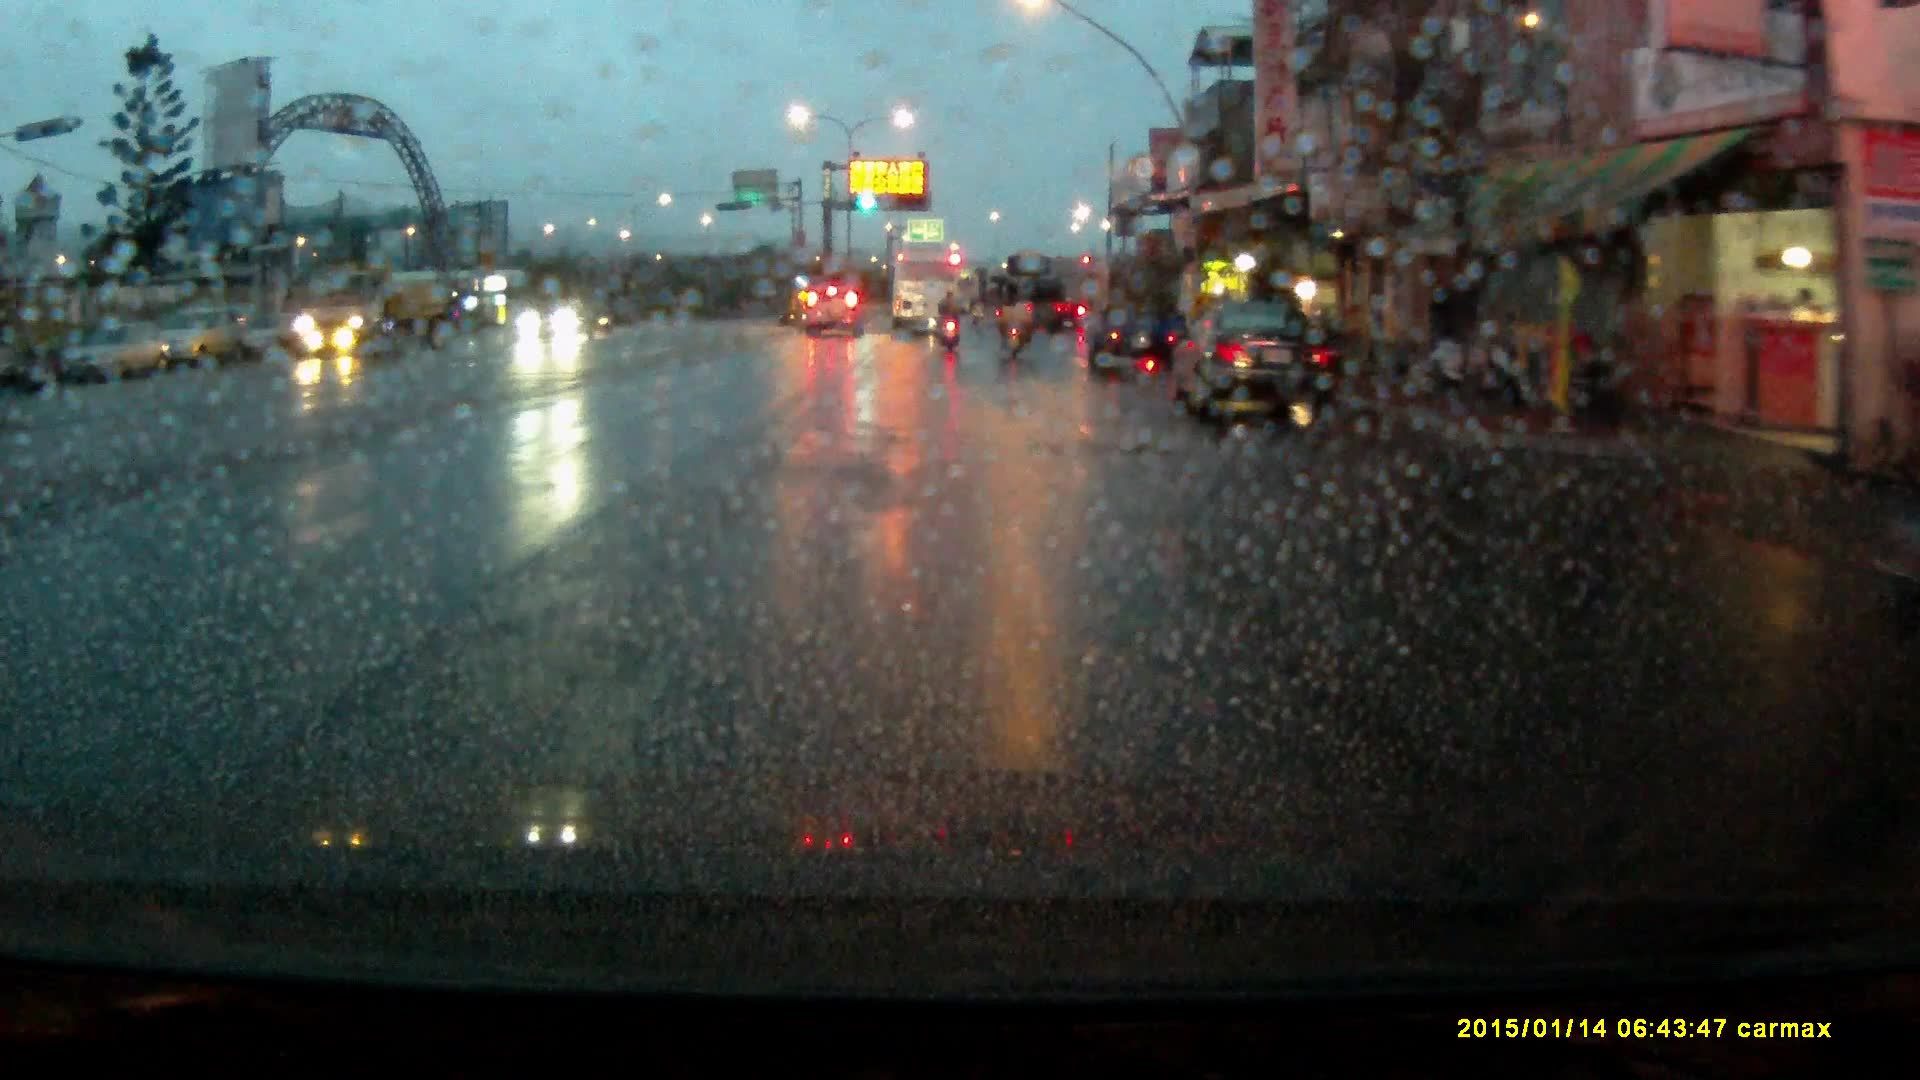rider: (994, 276, 1029, 359), (937, 284, 965, 350)
vehicle: (1168, 303, 1345, 428), (288, 262, 455, 354), (1082, 257, 1186, 367), (891, 248, 959, 336), (149, 304, 243, 366), (75, 322, 168, 384), (1005, 253, 1072, 338), (803, 277, 866, 337), (521, 299, 588, 340)
